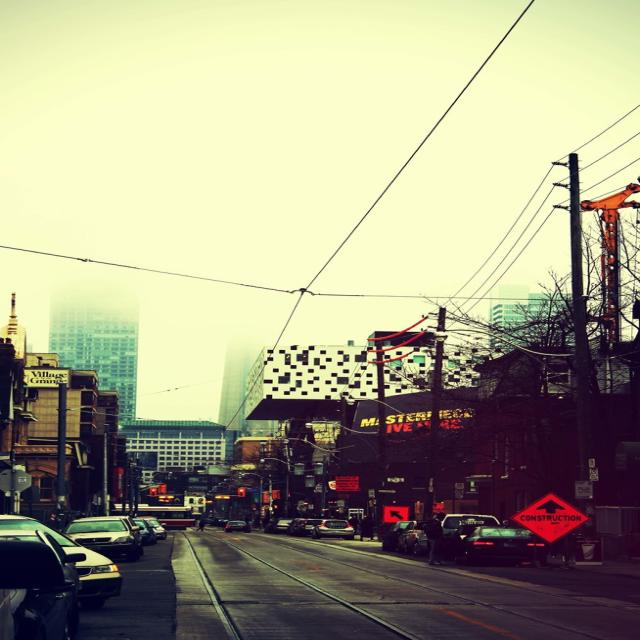car: (224, 520, 245, 532)
